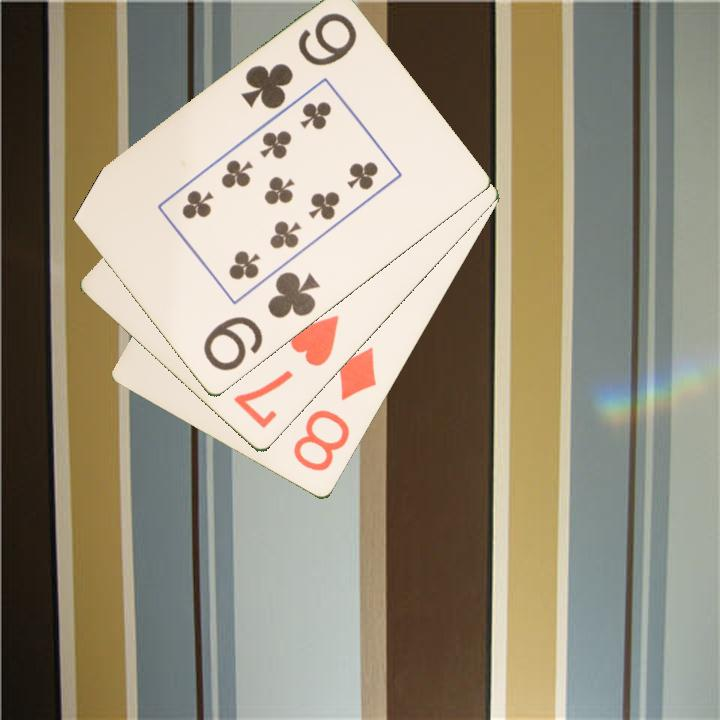7h: (229, 311, 342, 432)
8d: (289, 343, 380, 475)
9c: (199, 268, 323, 375), (237, 9, 361, 113)
